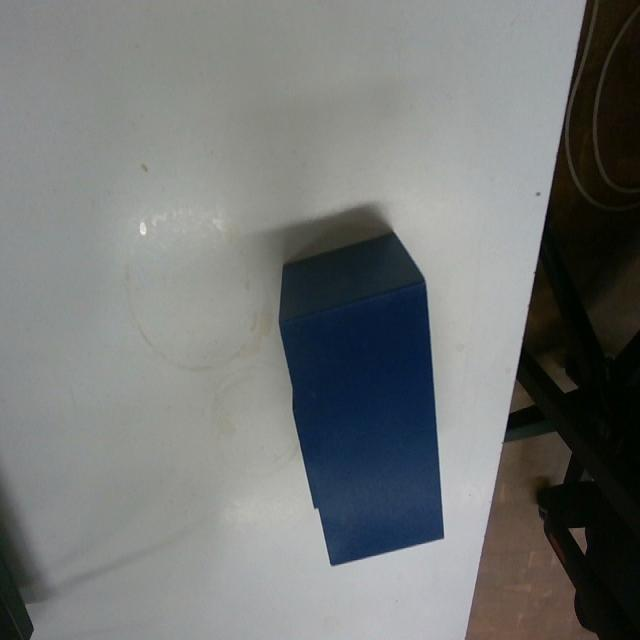Blue Cuboid: (276, 226, 446, 566)
